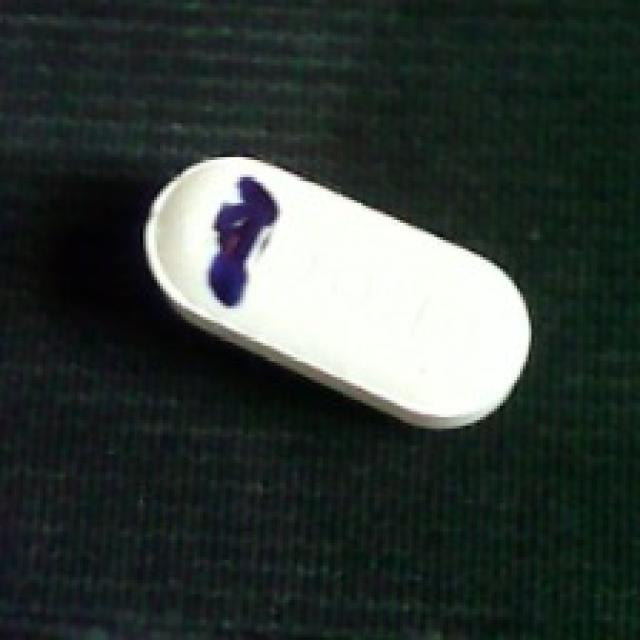defected: (129, 154, 537, 434)
